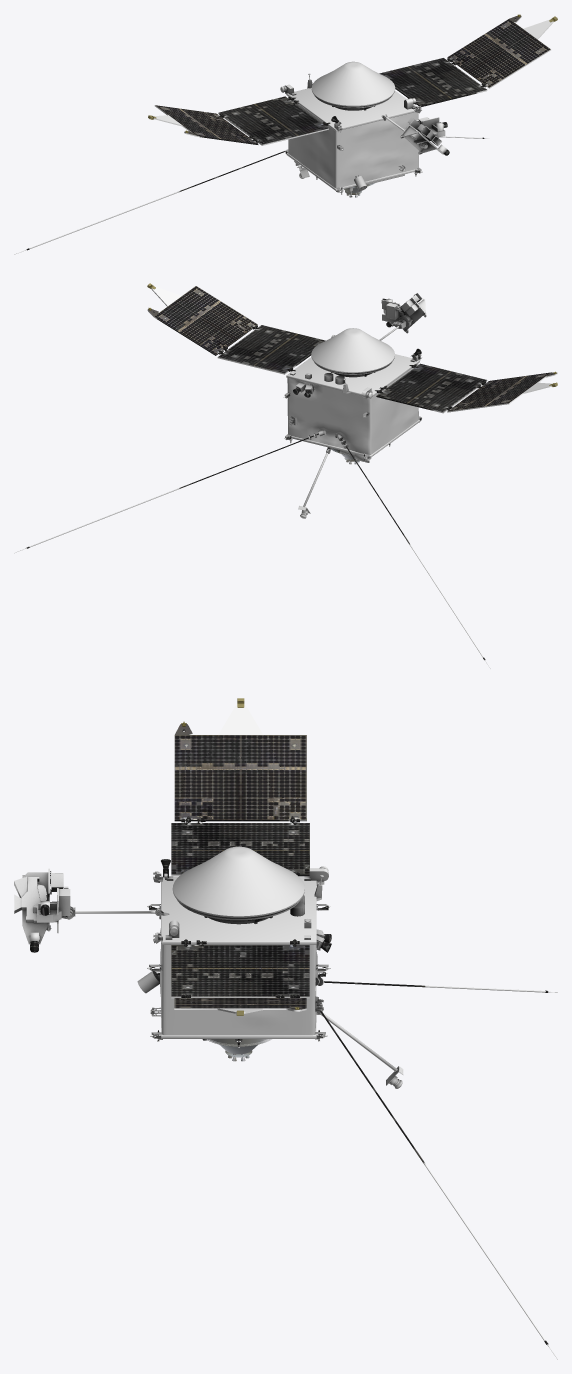
The model's file is 24882_MAVEN_v1.gltf.
3 views of the same model, one above another, from view 1: azimuth 30°, elevation 25°; view 2: azimuth 150°, elevation 25°; view 3: azimuth 270°, elevation 25° (orthographic). The views are drawn at different scales.
Visible parts, largest first — view 1: shiny_panel, BUS, foil_silver, tex_01, parts, dish_frame; view 2: shiny_panel, BUS, tex_01, foil_silver, parts; view 3: shiny_panel, BUS, foil_silver, parts, tex_01.
Boxes of the visible parts, box(x1,y1,x2,y2) form: shiny_panel: box(155, 19, 550, 144); BUS: box(286, 88, 446, 190); foil_silver: box(311, 61, 395, 105); tex_01: box(14, 15, 553, 254); parts: box(148, 14, 557, 197); dish_frame: box(311, 89, 395, 110); shiny_panel: box(154, 286, 550, 411); BUS: box(286, 298, 419, 506); tex_01: box(14, 286, 557, 668); foil_silver: box(311, 328, 394, 372); parts: box(147, 283, 557, 518); shiny_panel: box(171, 735, 309, 1008); BUS: box(30, 876, 397, 1071); foil_silver: box(172, 846, 304, 916); parts: box(14, 698, 403, 1088); tex_01: box(30, 705, 557, 1359).
Bounding box in the file's own units: 13.13 × 5.42 × 8.22.
Materials: 11 (9 with a texture image).
